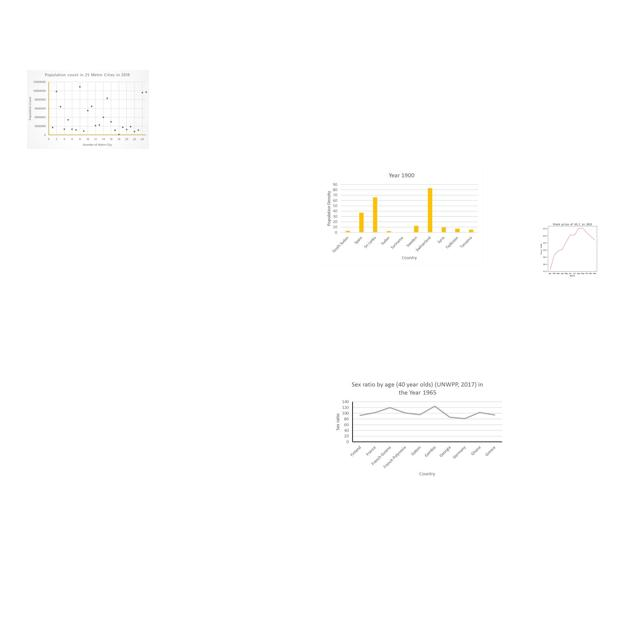Graph: (332, 378, 503, 480), (321, 168, 483, 266), (27, 70, 149, 149), (532, 219, 611, 278)
